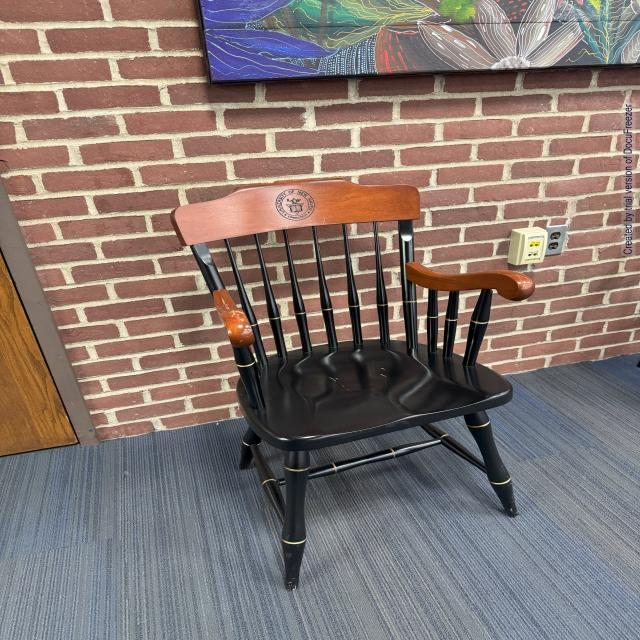chair: (159, 177, 545, 591)
